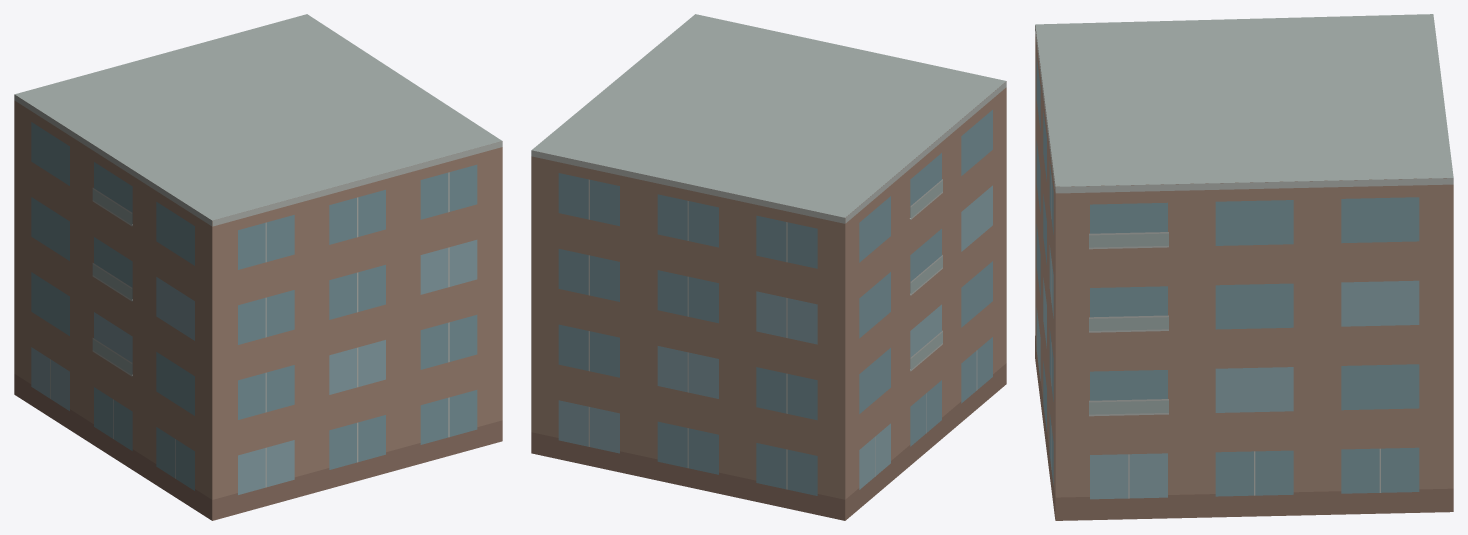
File: survey-upis-32698622.glb
The picture shows the model from 3 angles, left to right: view 1: azimuth 30°, elevation 25°; view 2: azimuth 150°, elevation 25°; view 3: azimuth 270°, elevation 25°; orthographic projection. The views are drawn at different scales.
Parts seen in each view (by area): view 1: survey-upis-32698622.tmp; view 2: survey-upis-32698622.tmp; view 3: survey-upis-32698622.tmp.
Part boxes in pixels (<box>): survey-upis-32698622.tmp: <box>14,14,502,520</box>; survey-upis-32698622.tmp: <box>531,14,1006,520</box>; survey-upis-32698622.tmp: <box>1035,14,1453,520</box>.
Size of the model in its own units: 13.54 by 12.2 by 13.86.
